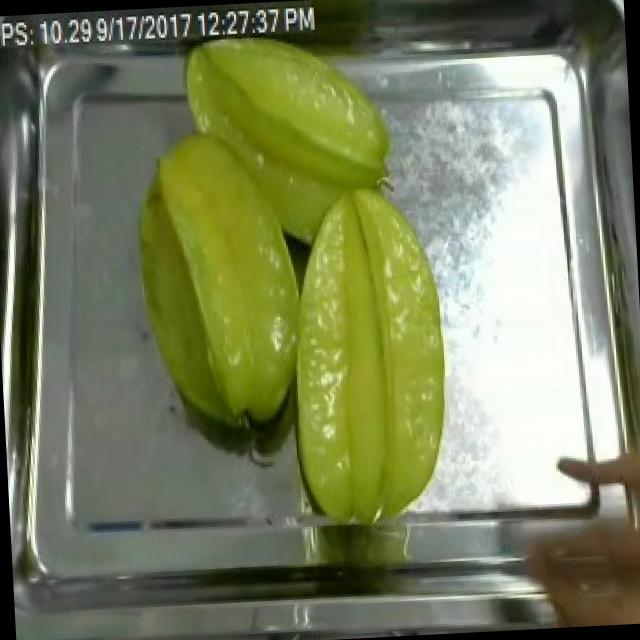fruit: (266, 172, 466, 542), (117, 118, 320, 448), (152, 13, 406, 268)
